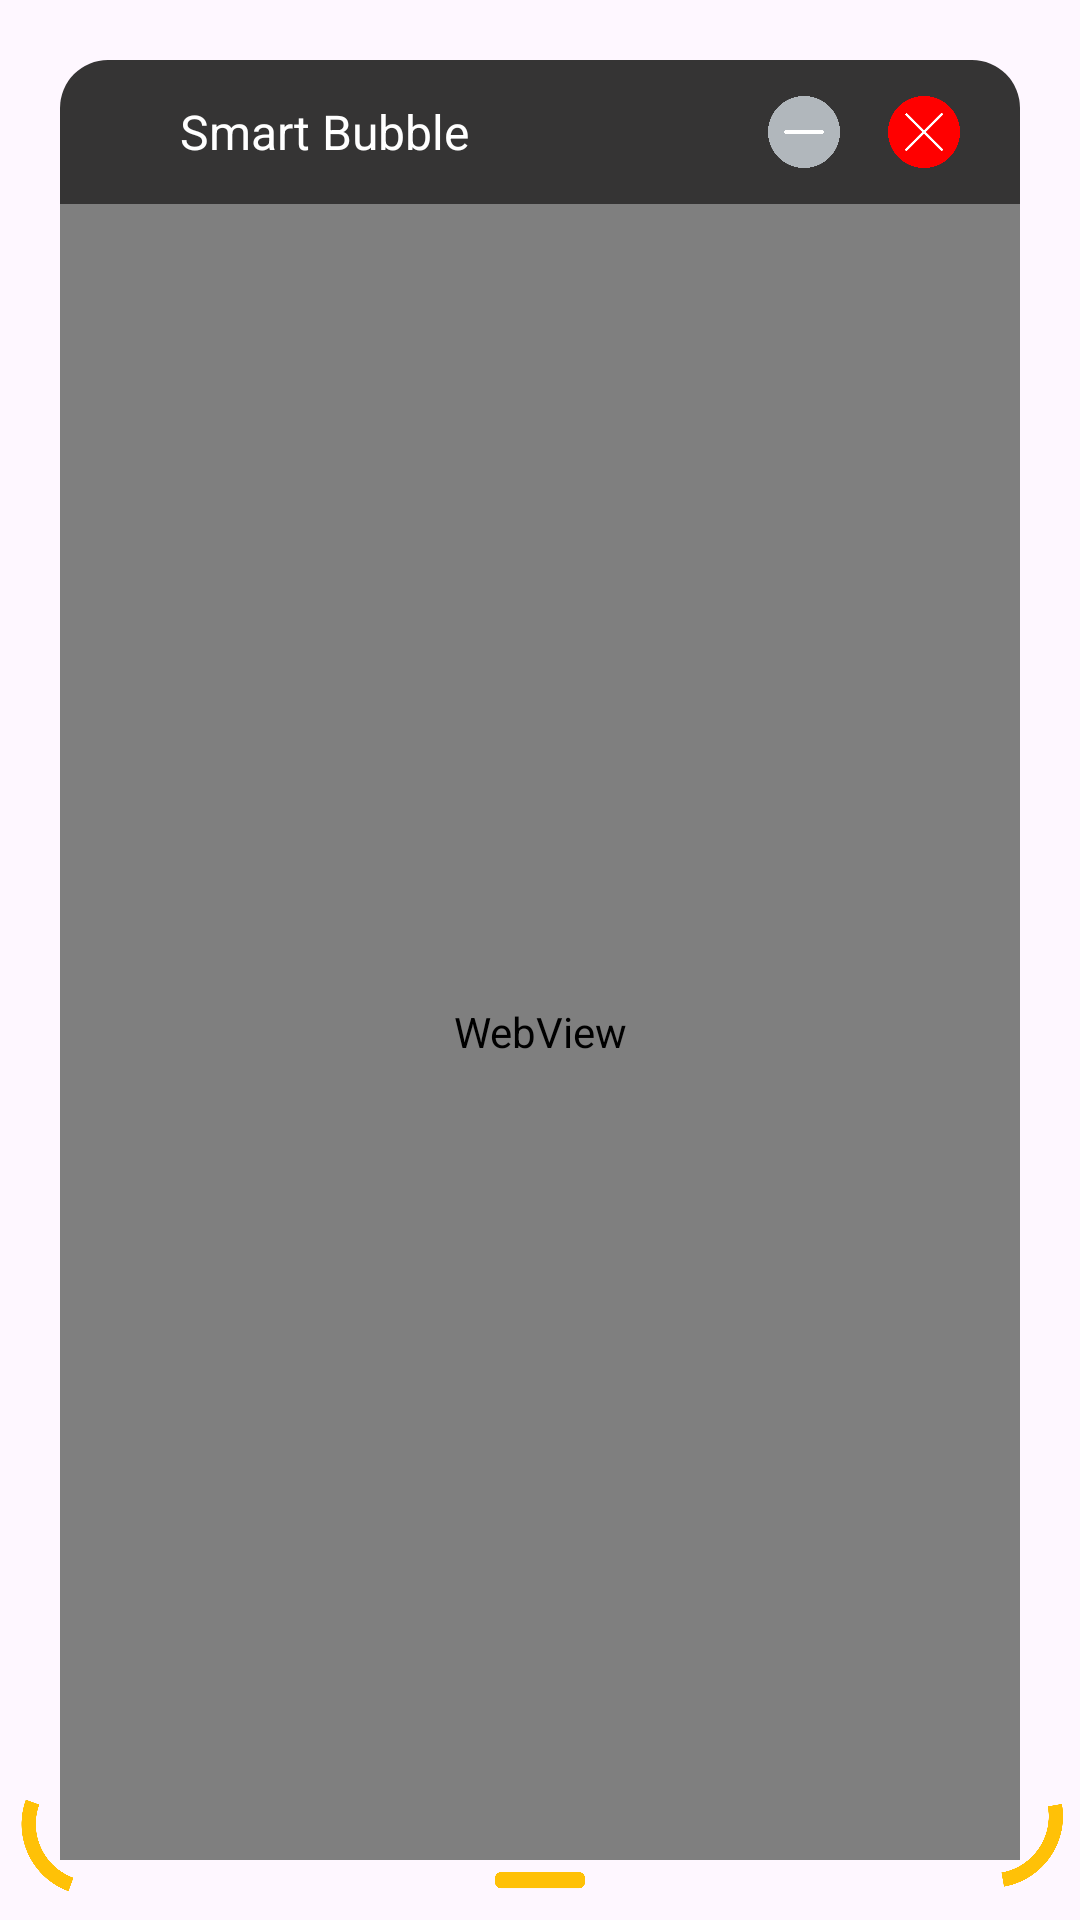

Screen size 1080×1920. Icon name, then its center in pixels as (x,y):
close: (924,132)
minimize: (804,132)
